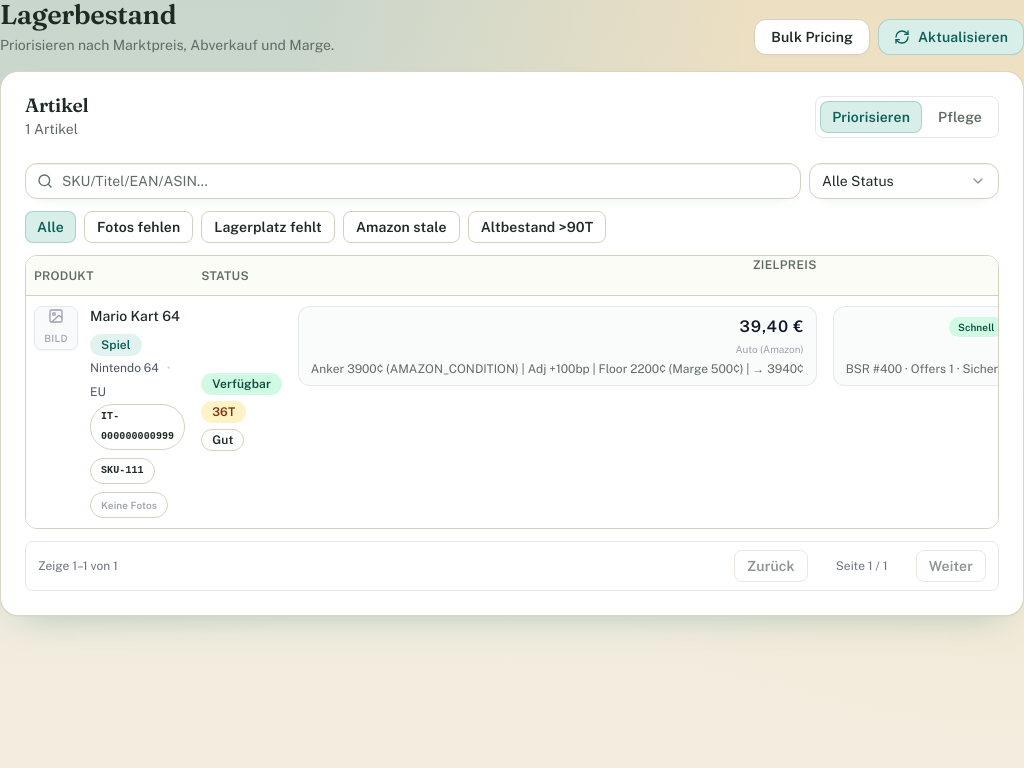
Test: wires bulk preview and apply requests
The width and height of the screenshot is (1024, 768).
Click the button "Bulk Pricing" at [812, 37], box [754,19,870,55]
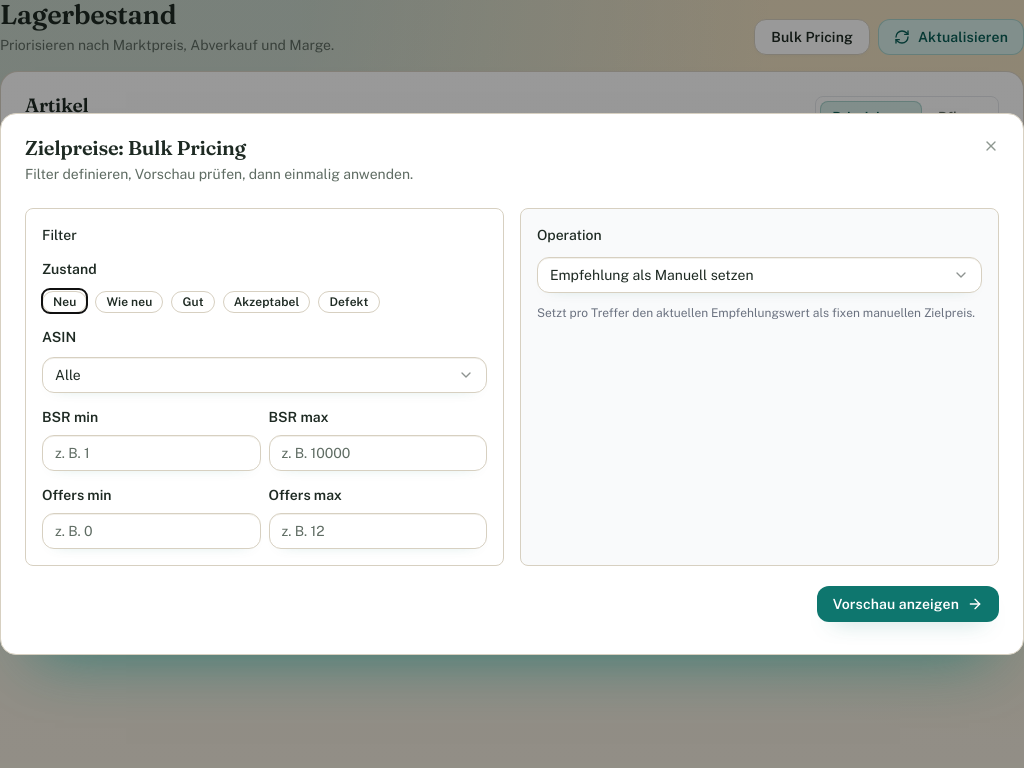
Click the button "Vorschau anzeigen" at [908, 604], box [817,586,999,622]
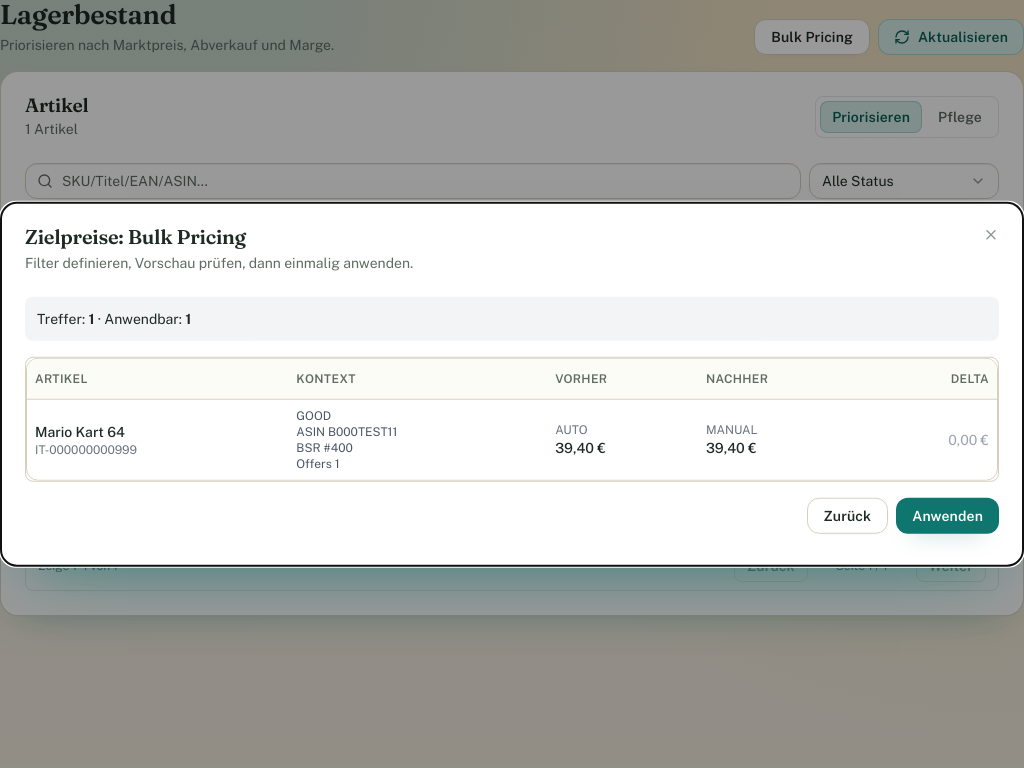
Now the text "Treffer: 1 · Anwendbar: 1" is shown, box [25,297,999,341]
Click the button "Anwenden" at [948, 515], box [896,497,999,533]
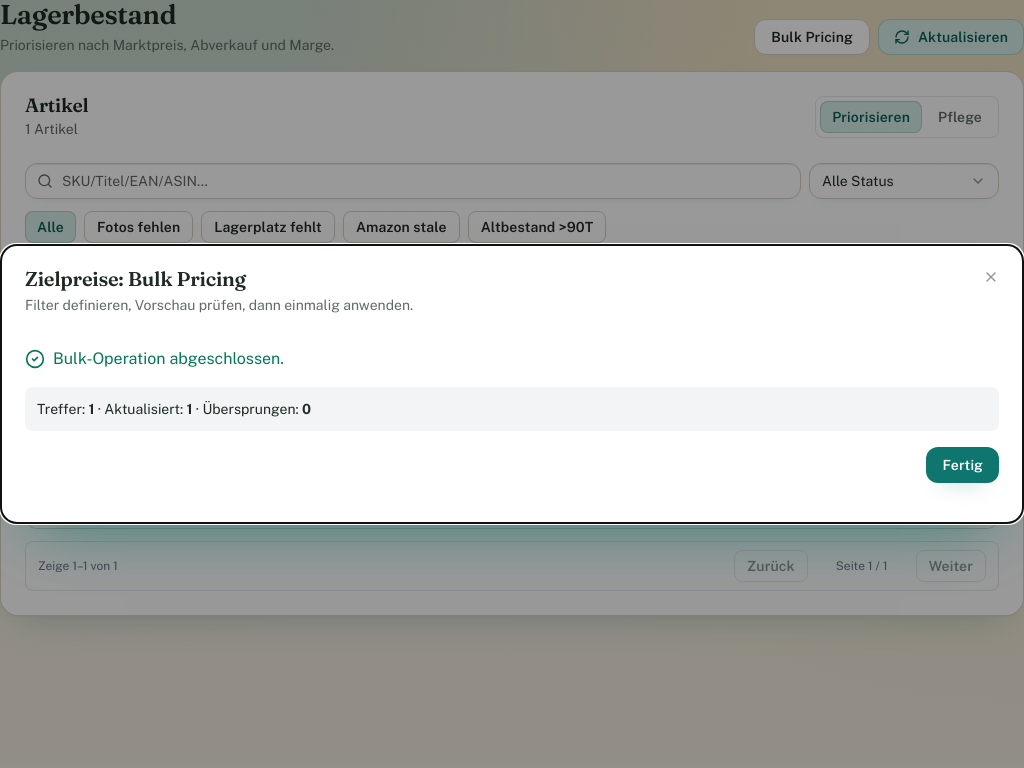
Now the text "Bulk-Operation abgeschlossen." is shown, box [25,349,284,369]
